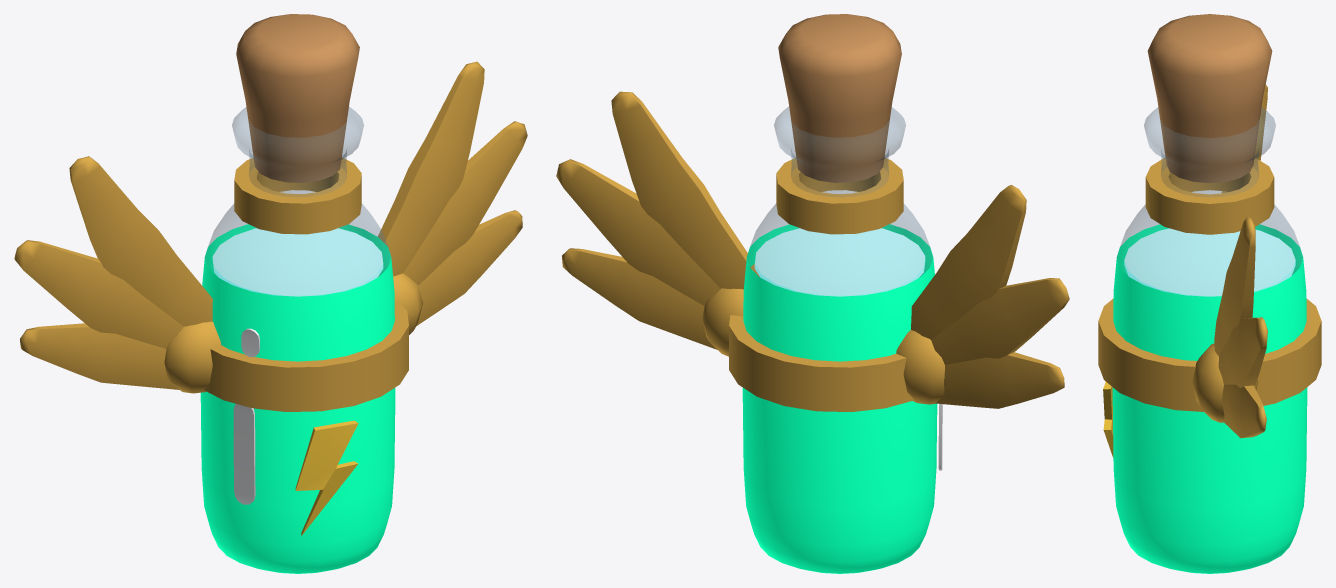
The model's file is item_swift_elixir.glb.
3 renders of one model, left to right at view 1: azimuth 30°, elevation 25°; view 2: azimuth 150°, elevation 25°; view 3: azimuth 270°, elevation 25°, orthographic.
Parts seen in each view (by area): view 1: SwiftElixir; view 2: SwiftElixir; view 3: SwiftElixir.
Part boxes in pixels (box(x1,y1,x2,y2)): SwiftElixir: box(14, 14, 527, 573); SwiftElixir: box(556, 14, 1069, 573); SwiftElixir: box(1098, 14, 1321, 573).
Bounding box in the file's own units: 0.3127 × 0.3008 × 0.118.
